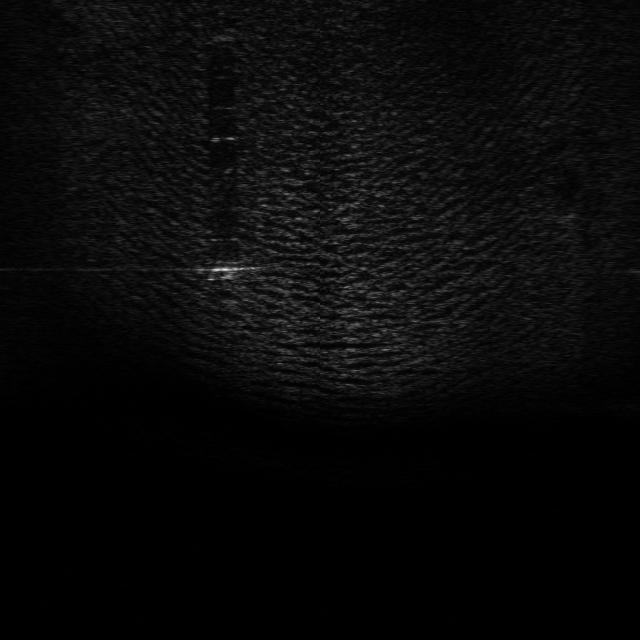cube: (201, 254, 247, 284)
